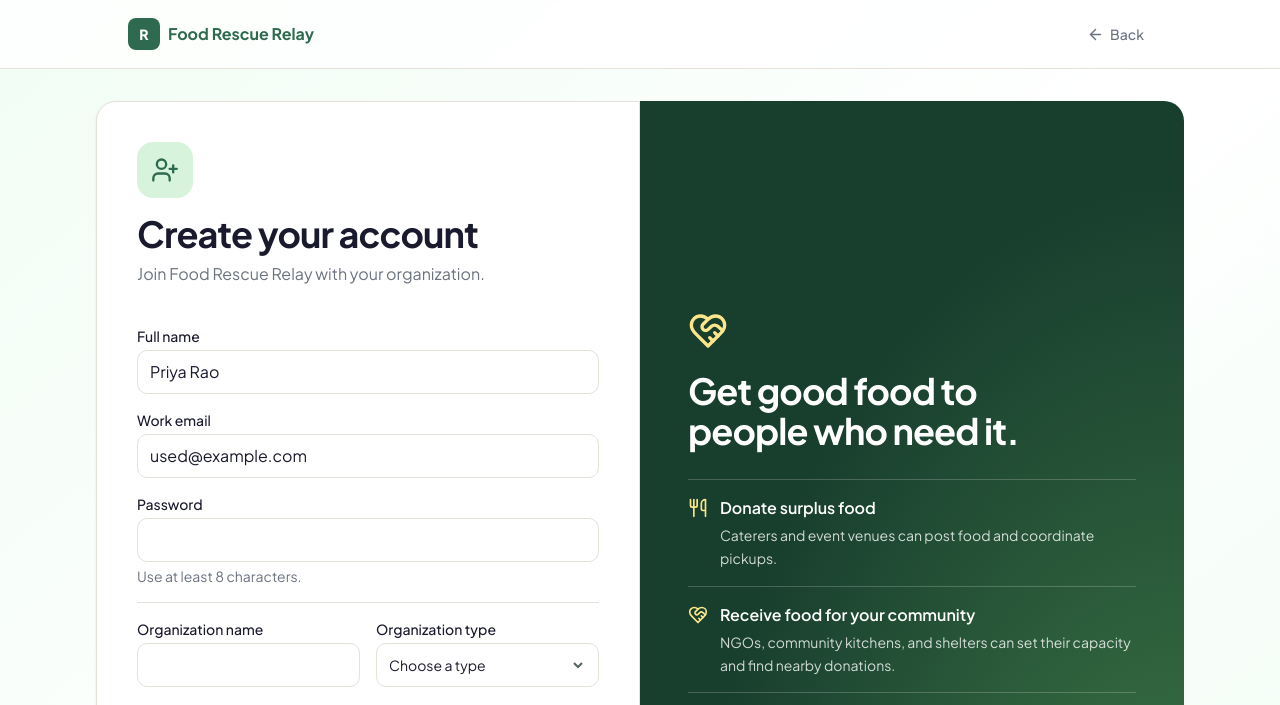
it: keeps signup details after an error and opens the workspace after successful signup
Earlier steps of the test are not shown.
Type "test-passphrase" into the password field labelled "Password" at (368, 540), box [137,518,599,562]
Type "Community Meals" into the field labelled "Organization name" at (248, 665), box [137,643,360,687]
Select "Community kitchen" in the dropdown labelled "Organization type" at (488, 665), box [376,643,599,687]
(page scrolled)
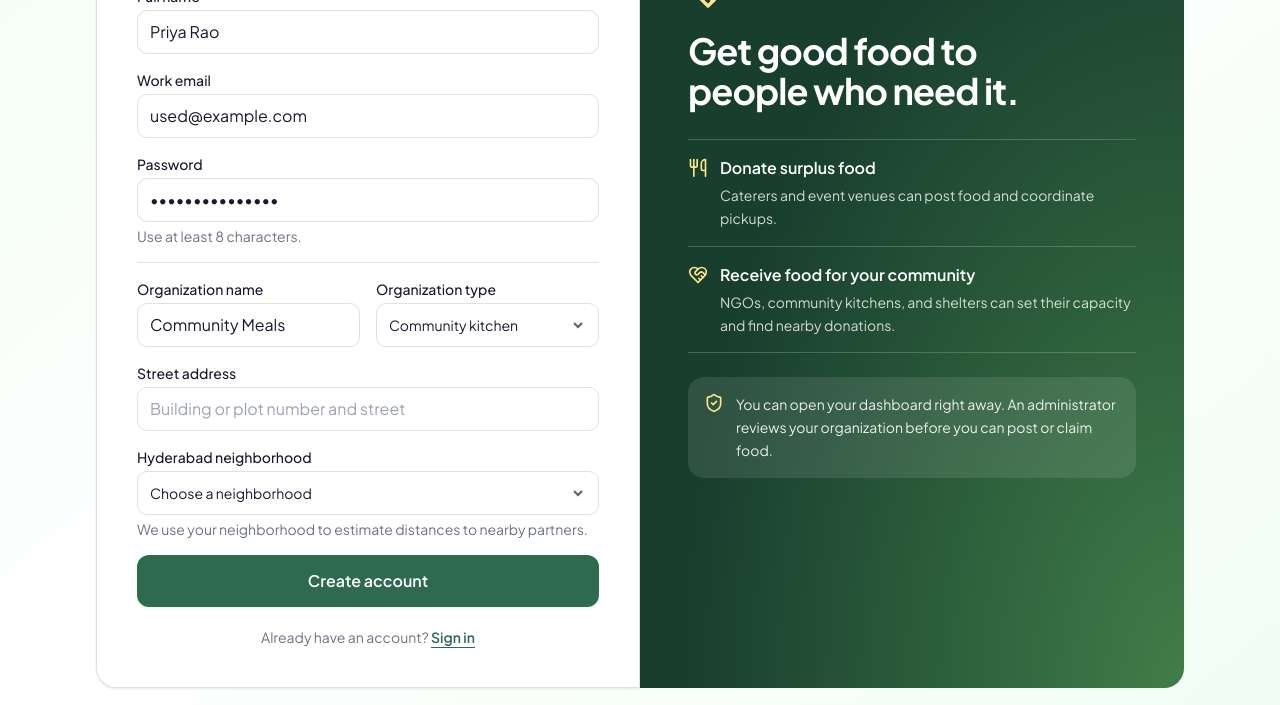
Type "Plot 12, Silicon Valley Road" into the field labelled "Street address" at (368, 409), box [137,387,599,431]
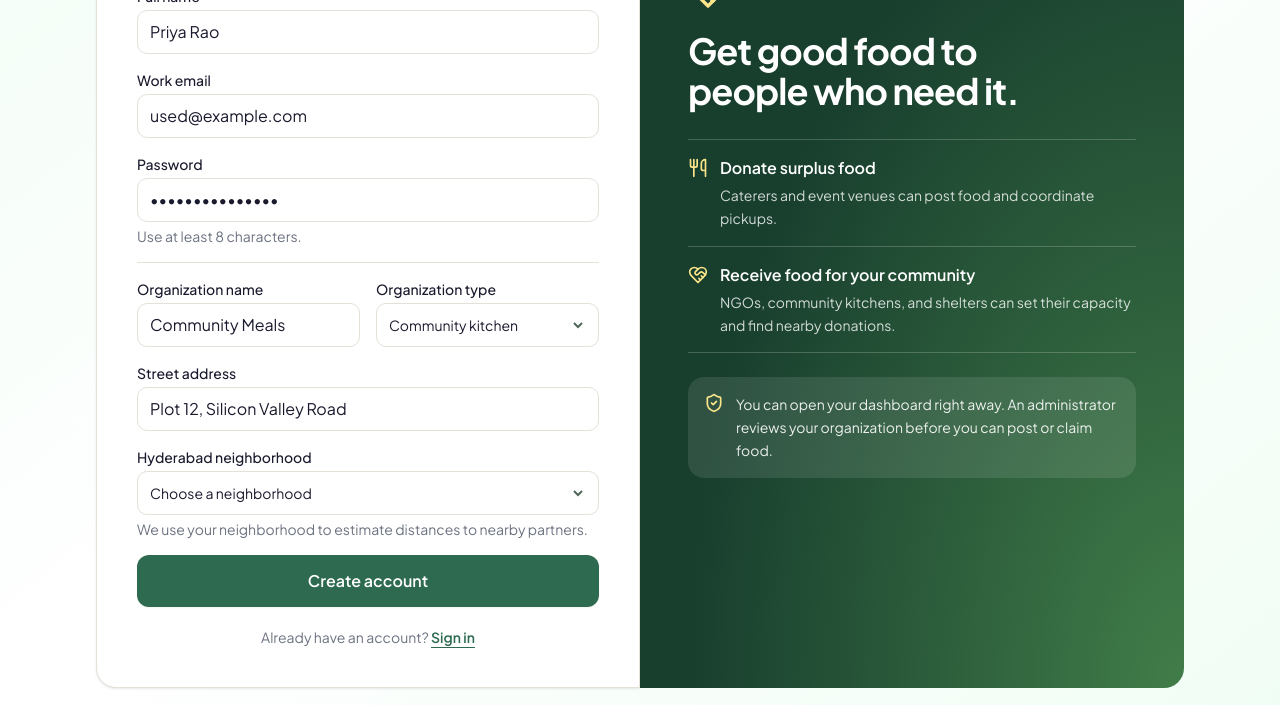
Select "Madhapur" in the dropdown labelled "Hyderabad neighborhood" at (368, 493), box [137,471,599,515]
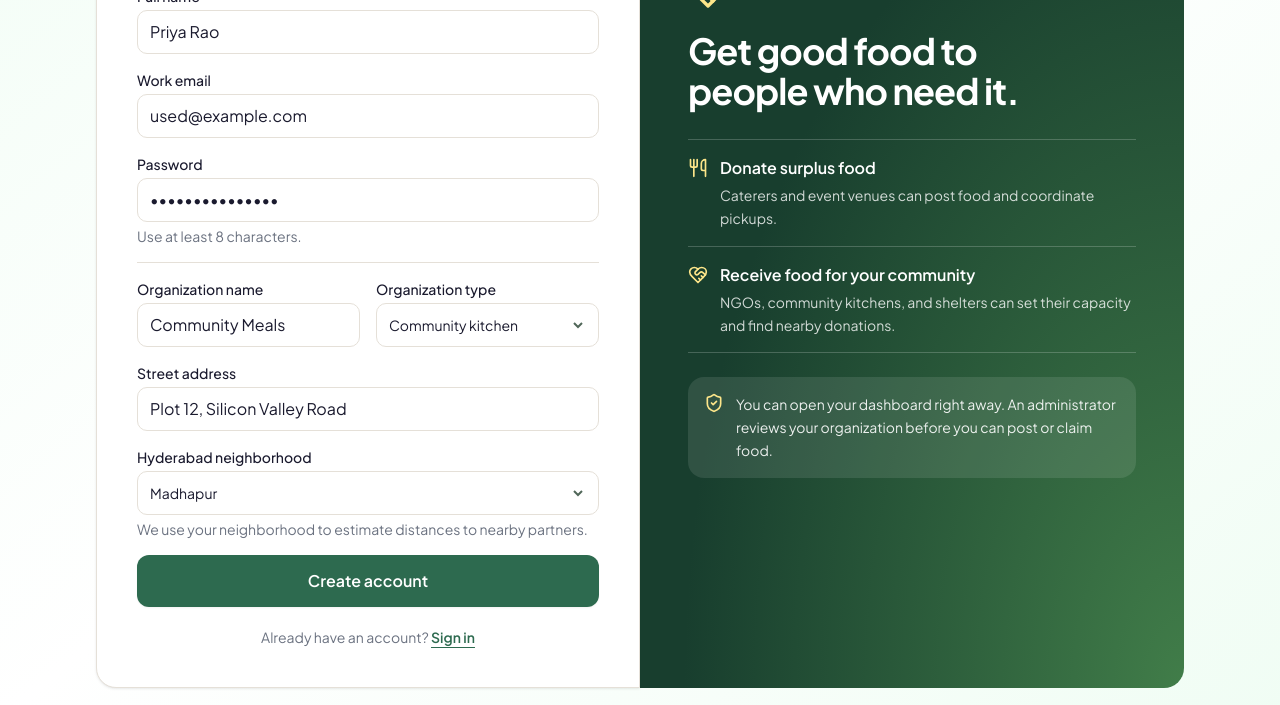
Click the button "Create account" at (368, 581), box [137,555,599,607]
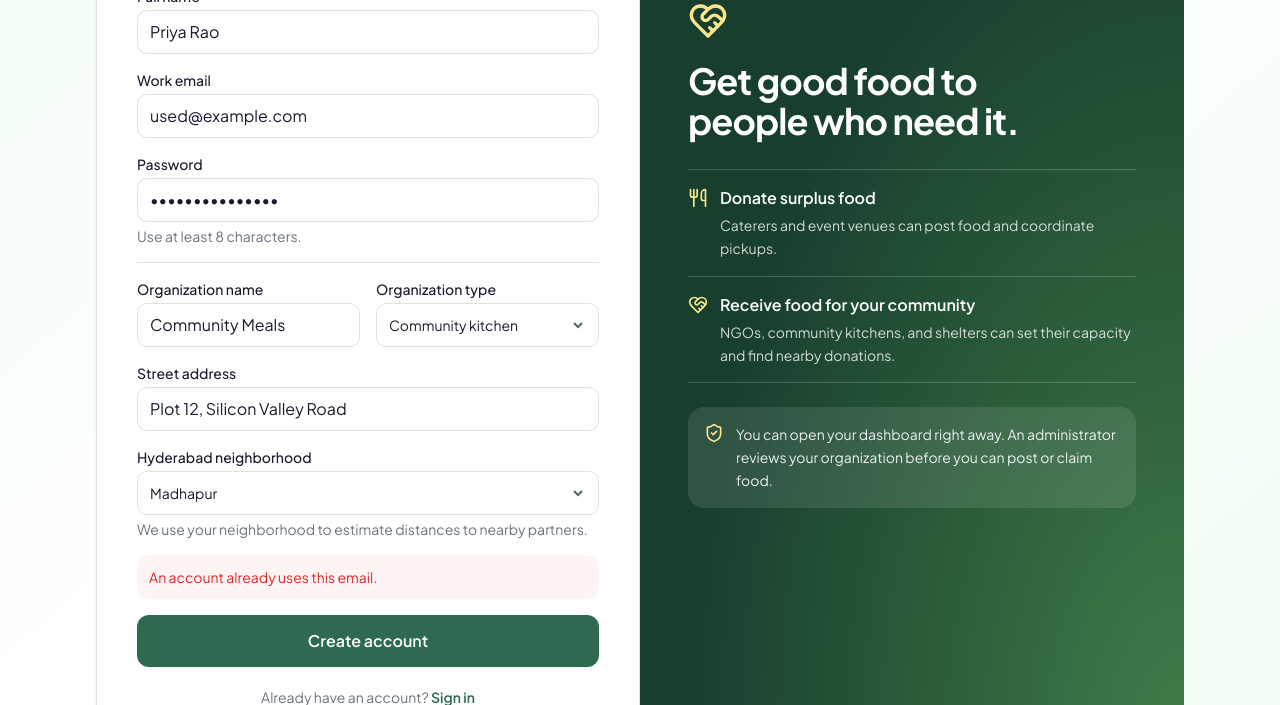
Check: the message reads "An account already uses this email.", box [149,568,377,586]
Replace the text in the field labelled "Work email" with "priya@example.com" at (368, 116), box [137,94,599,138]
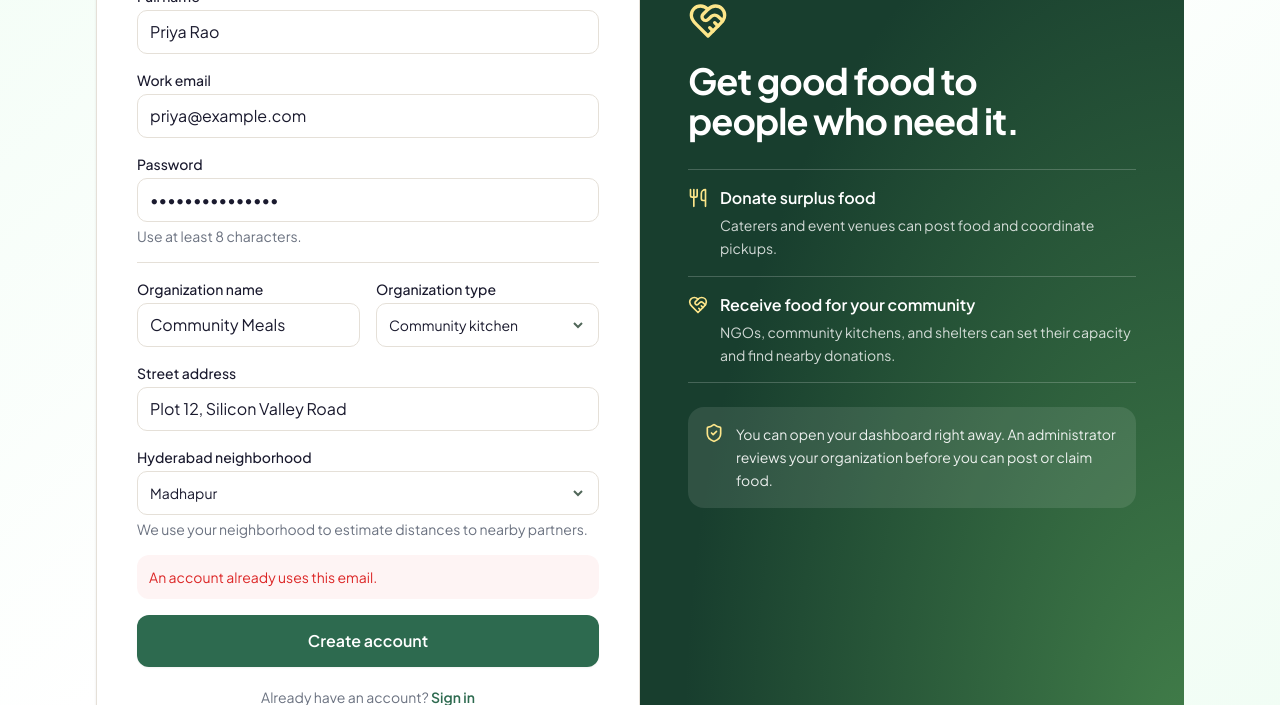
Click the button "Create account" at (368, 641), box [137,615,599,667]
(page scrolled)
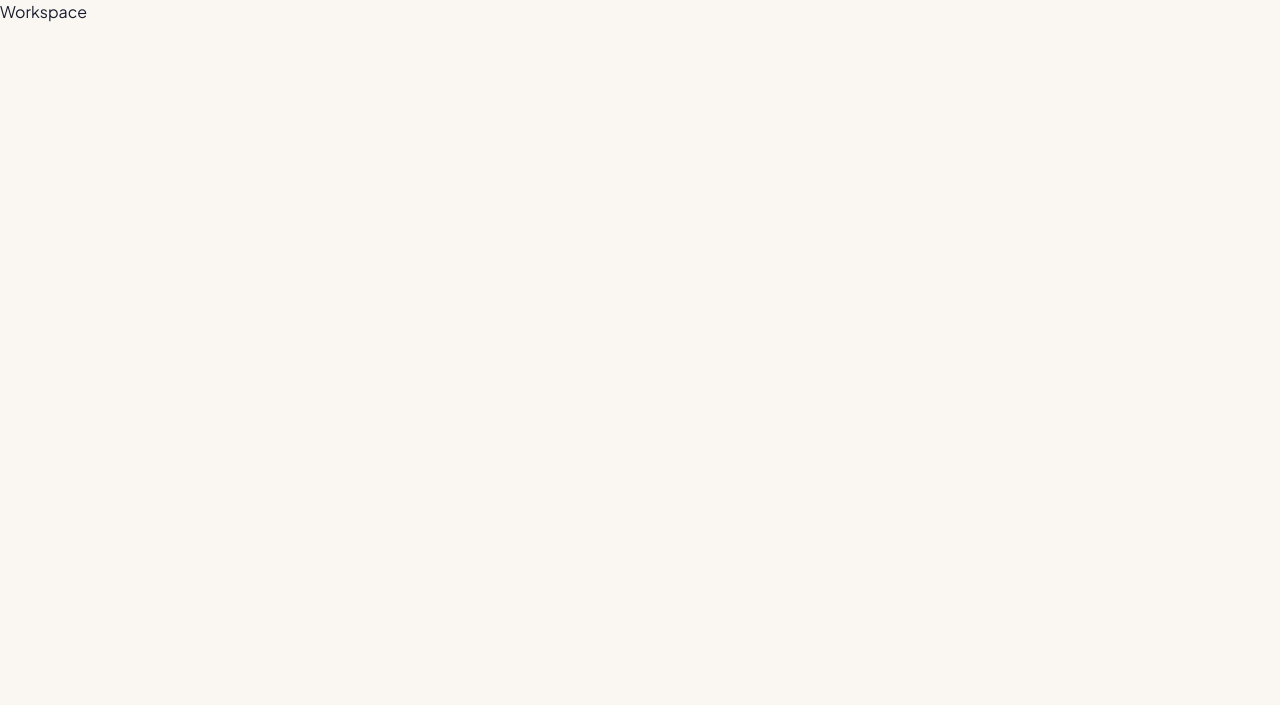
Check: the heading "Workspace" is shown, box [0,1,87,22]
